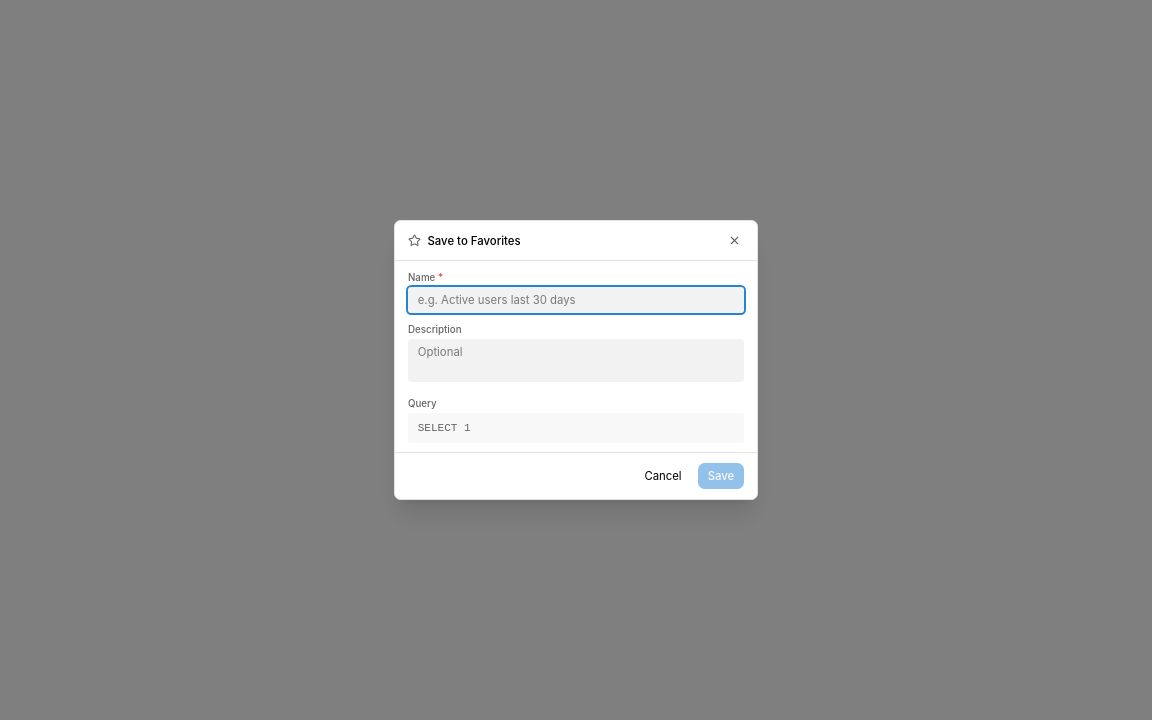
SaveFavoriteDialog › disables Save until a name is entered
Check: the button "Save" is disabled, box [698,463,744,489]
Type "Recent orders" into the field with placeholder "e.g. Active users last 30 days". click: (576, 300)
box: [408,287,744,313]
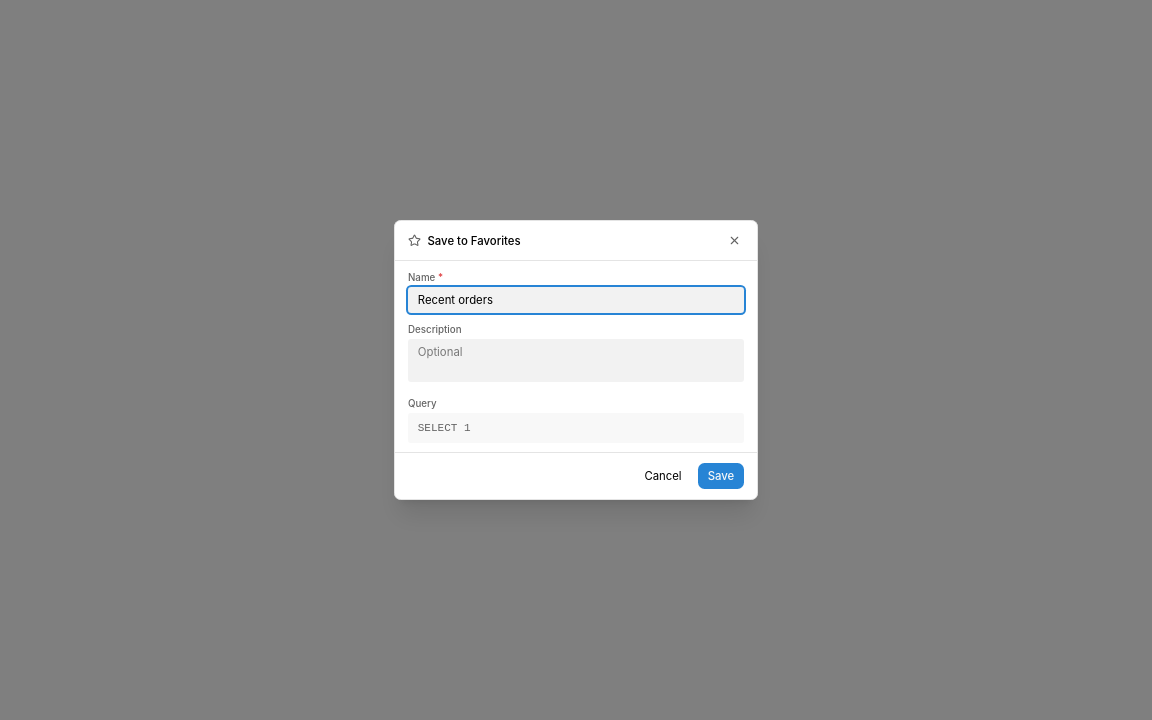
Check: the button "Save" is enabled, box [698,463,744,489]
